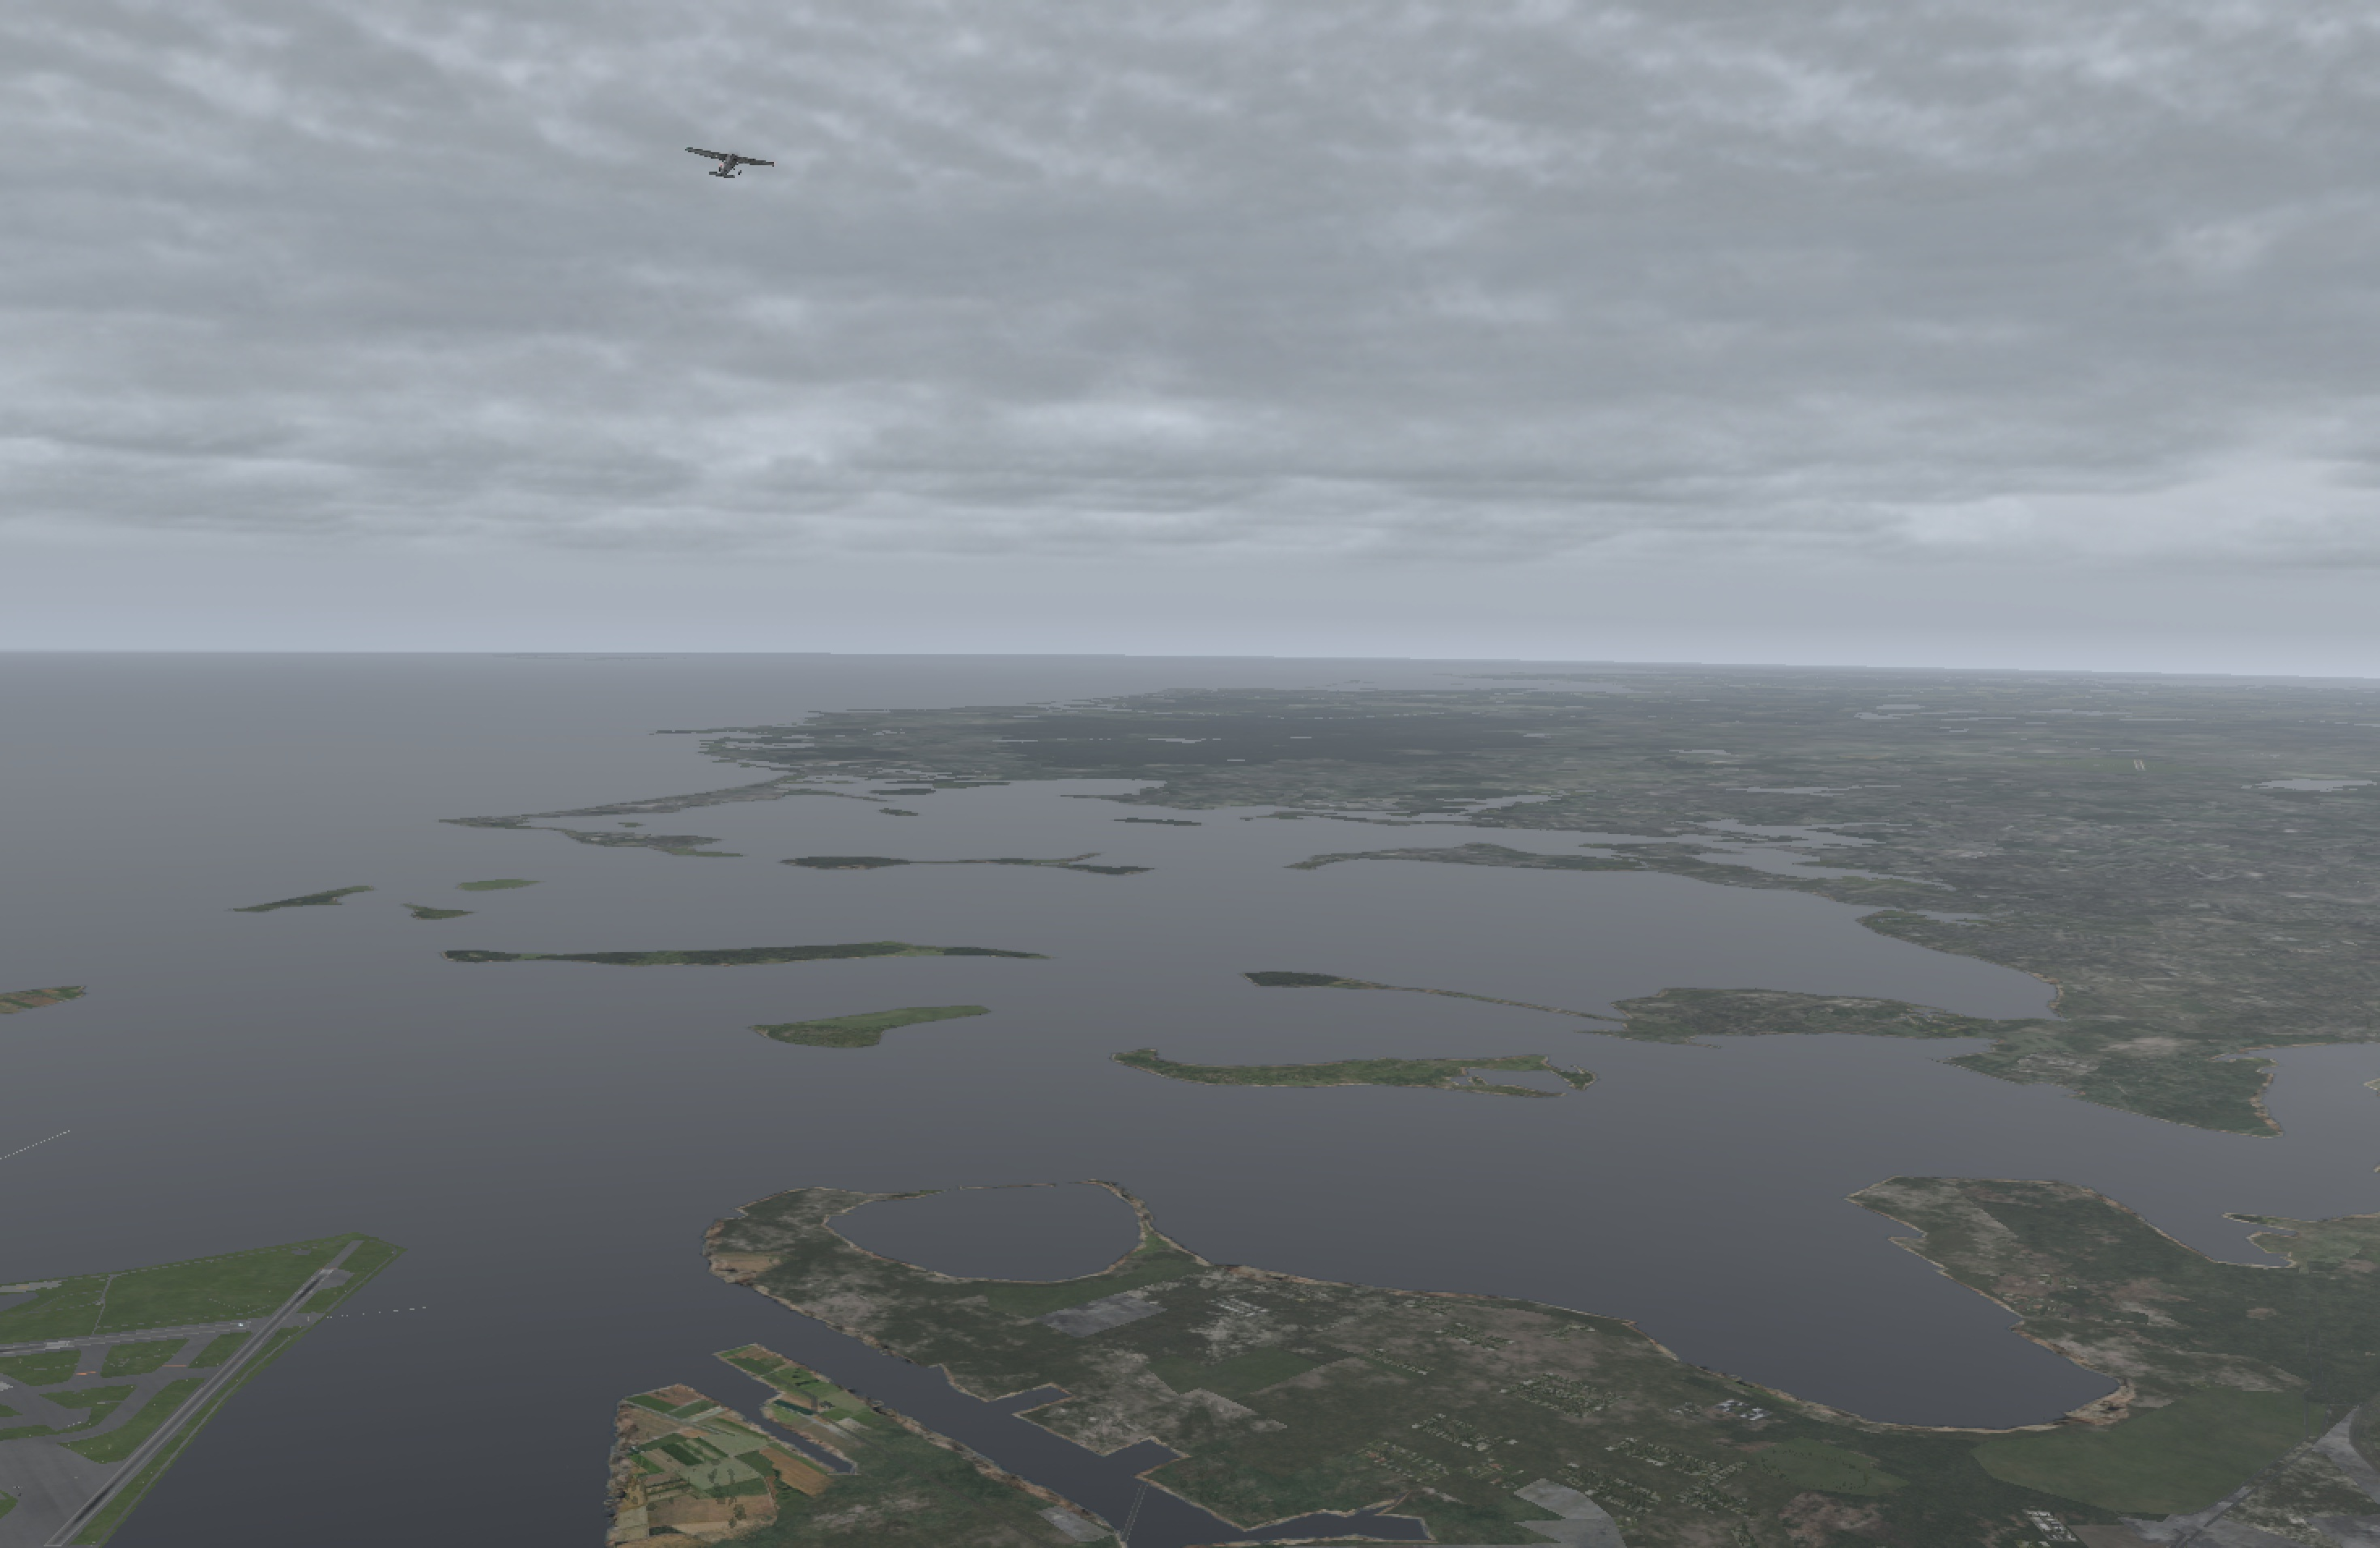aircraft: (701, 151, 760, 172)
